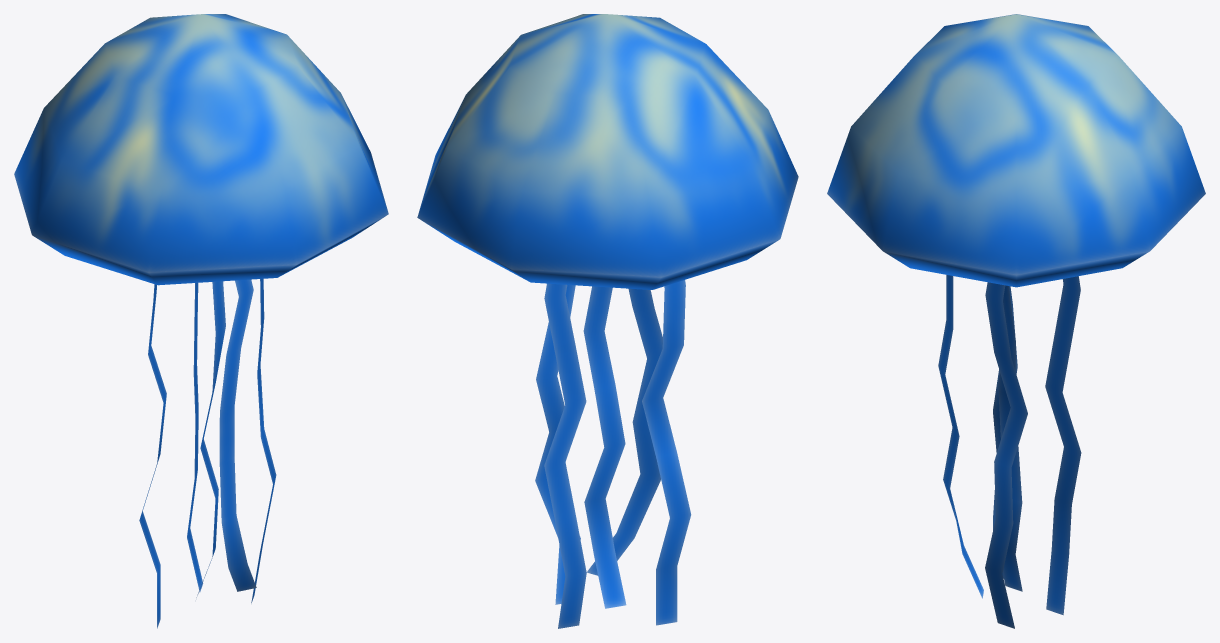
The model's file is jelly.fbx.
The picture shows the model from 3 angles, left to right: view 1: azimuth 30°, elevation 25°; view 2: azimuth 150°, elevation 25°; view 3: azimuth 270°, elevation 25°; orthographic projection. The views are drawn at different scales.
Visible parts, largest first — view 1: polySurface4; view 2: polySurface4; view 3: polySurface4.
Boxes of the visible parts, x1,y1,x2,y2 form: polySurface4: [14, 14, 388, 628]; polySurface4: [417, 14, 798, 628]; polySurface4: [827, 14, 1205, 628].
Size of the model in its own units: 3.95 by 6.61 by 3.85.
